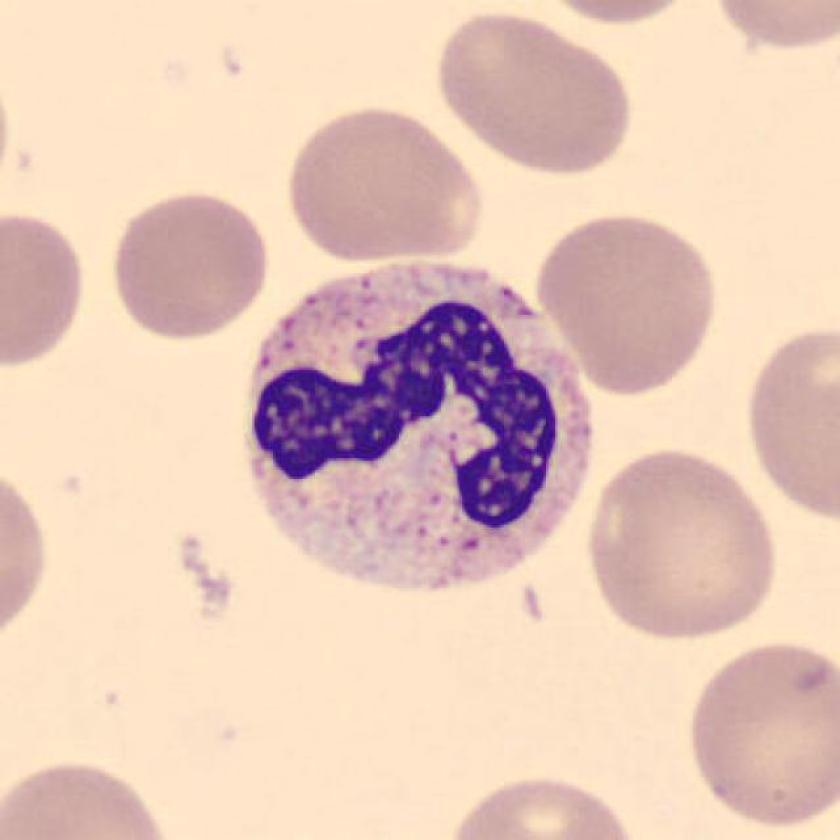neutrophil: (249, 269, 593, 586)
